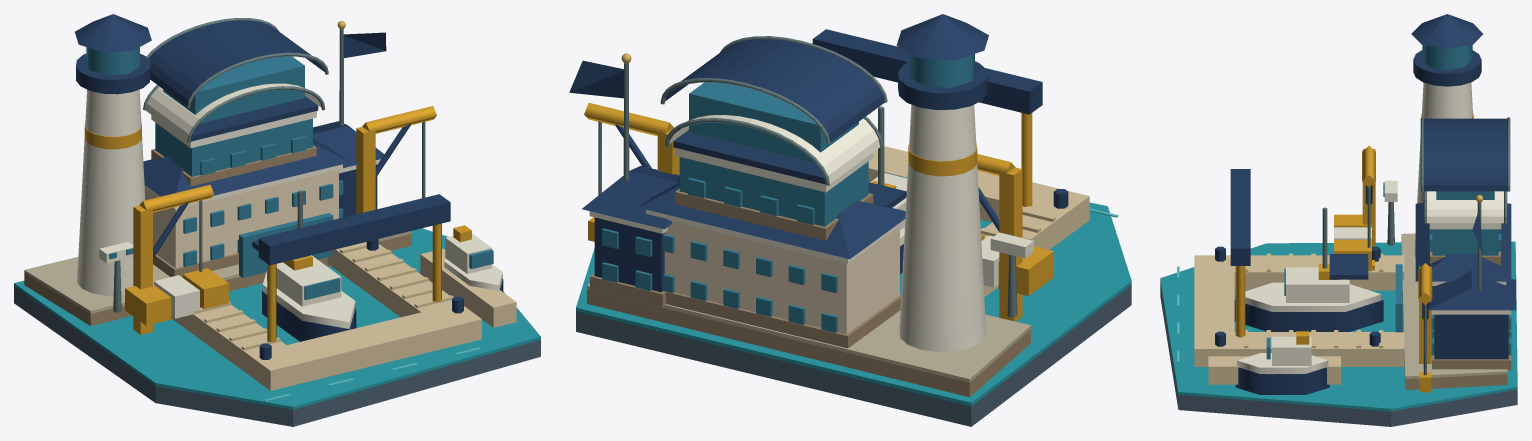
The model's file is port-lv5.glb.
The picture shows the model from 3 angles, left to right: view 1: azimuth 30°, elevation 25°; view 2: azimuth 150°, elevation 25°; view 3: azimuth 270°, elevation 25°; orthographic projection. The views are drawn at different scales.
Visible parts, largest first — view 1: foundation_water, pier_stone, lighthouse_white, foundation_slate, warehouse_cream, upper_canopy_naval, port_gate_naval, cranes_ochre, vessel_white, upper_lounge_glass, terminal_glass, warehouse_roof_naval (+31 smaller); view 2: lighthouse_white, foundation_water, warehouse_cream, foundation_slate, upper_canopy_naval, quay_stoneDark, quay_paving, upper_lounge_glass, warehouse_roof_naval, terminal_glass, cranes_ochre, pier_stone (+28 smaller); view 3: foundation_water, pier_stone, vessel_white, upper_canopy_naval, vessel_naval, foundation_slate, warehouse_annex_naval, warehouse_roof_naval, quay_paving, warehouse_annex_roof_naval, cranes_ochre, port_gate_naval (+22 smaller).
Part boxes in pixels (x1=…): foundation_water: x1=14, y1=228, x2=540, y2=409; pier_stone: x1=171, y1=242, x2=481, y2=390; lighthouse_white: x1=77, y1=89, x2=145, y2=295; foundation_slate: x1=14, y1=286, x2=540, y2=426; warehouse_cream: x1=145, y1=169, x2=338, y2=268; upper_canopy_naval: x1=148, y1=20, x2=324, y2=106; port_gate_naval: x1=258, y1=194, x2=450, y2=265; cranes_ochre: x1=133, y1=106, x2=436, y2=334; vessel_white: x1=262, y1=233, x2=502, y2=328; upper_lounge_glass: x1=163, y1=56, x2=304, y2=123; terminal_glass: x1=155, y1=118, x2=312, y2=176; warehouse_roof_naval: x1=143, y1=138, x2=349, y2=196; lighthouse_white: x1=899, y1=104, x2=986, y2=351; foundation_water: x1=576, y1=202, x2=1131, y2=406; warehouse_cream: x1=664, y1=220, x2=899, y2=334; foundation_slate: x1=576, y1=285, x2=1131, y2=426; upper_canopy_naval: x1=665, y1=39, x2=884, y2=142; quay_stoneDark: x1=587, y1=289, x2=1030, y2=397; quay_paving: x1=587, y1=283, x2=1030, y2=382; upper_lounge_glass: x1=689, y1=82, x2=858, y2=162; warehouse_roof_naval: x1=638, y1=177, x2=905, y2=259; terminal_glass: x1=679, y1=157, x2=868, y2=226; cranes_ochre: x1=584, y1=103, x2=1022, y2=321; pier_stone: x1=868, y1=146, x2=1089, y2=297; foundation_water: x1=1160, y1=241, x2=1517, y2=411; pier_stone: x1=1194, y1=255, x2=1404, y2=366; vessel_white: x1=1237, y1=267, x2=1381, y2=374; upper_canopy_naval: x1=1424, y1=118, x2=1506, y2=191; vessel_naval: x1=1234, y1=254, x2=1383, y2=394; foundation_slate: x1=1160, y1=282, x2=1517, y2=426; warehouse_annex_naval: x1=1434, y1=314, x2=1508, y2=359; warehouse_roof_naval: x1=1415, y1=203, x2=1511, y2=281; quay_paving: x1=1401, y1=233, x2=1507, y2=379; warehouse_annex_roof_naval: x1=1427, y1=270, x2=1516, y2=310; cranes_ochre: x1=1362, y1=145, x2=1432, y2=363; port_gate_naval: x1=1230, y1=169, x2=1250, y2=265.
Bounding box in the file's own units: 1 × 0.7614 × 0.9036.
